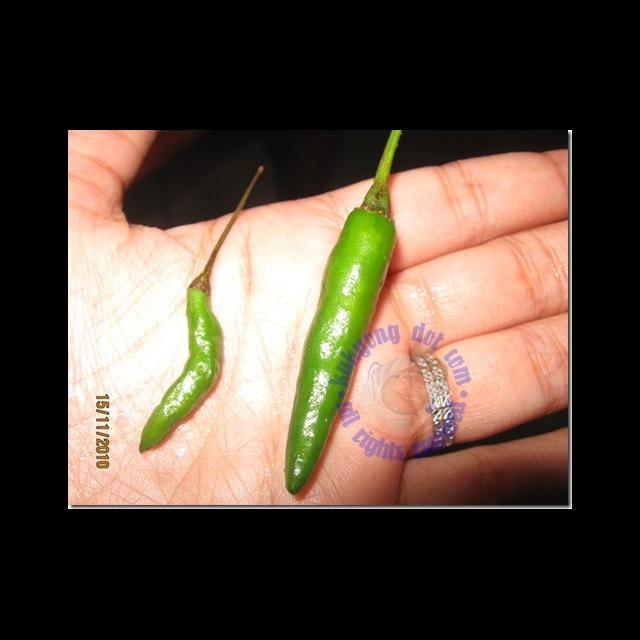chili_pepper: (286, 130, 402, 495), (139, 166, 263, 453)
